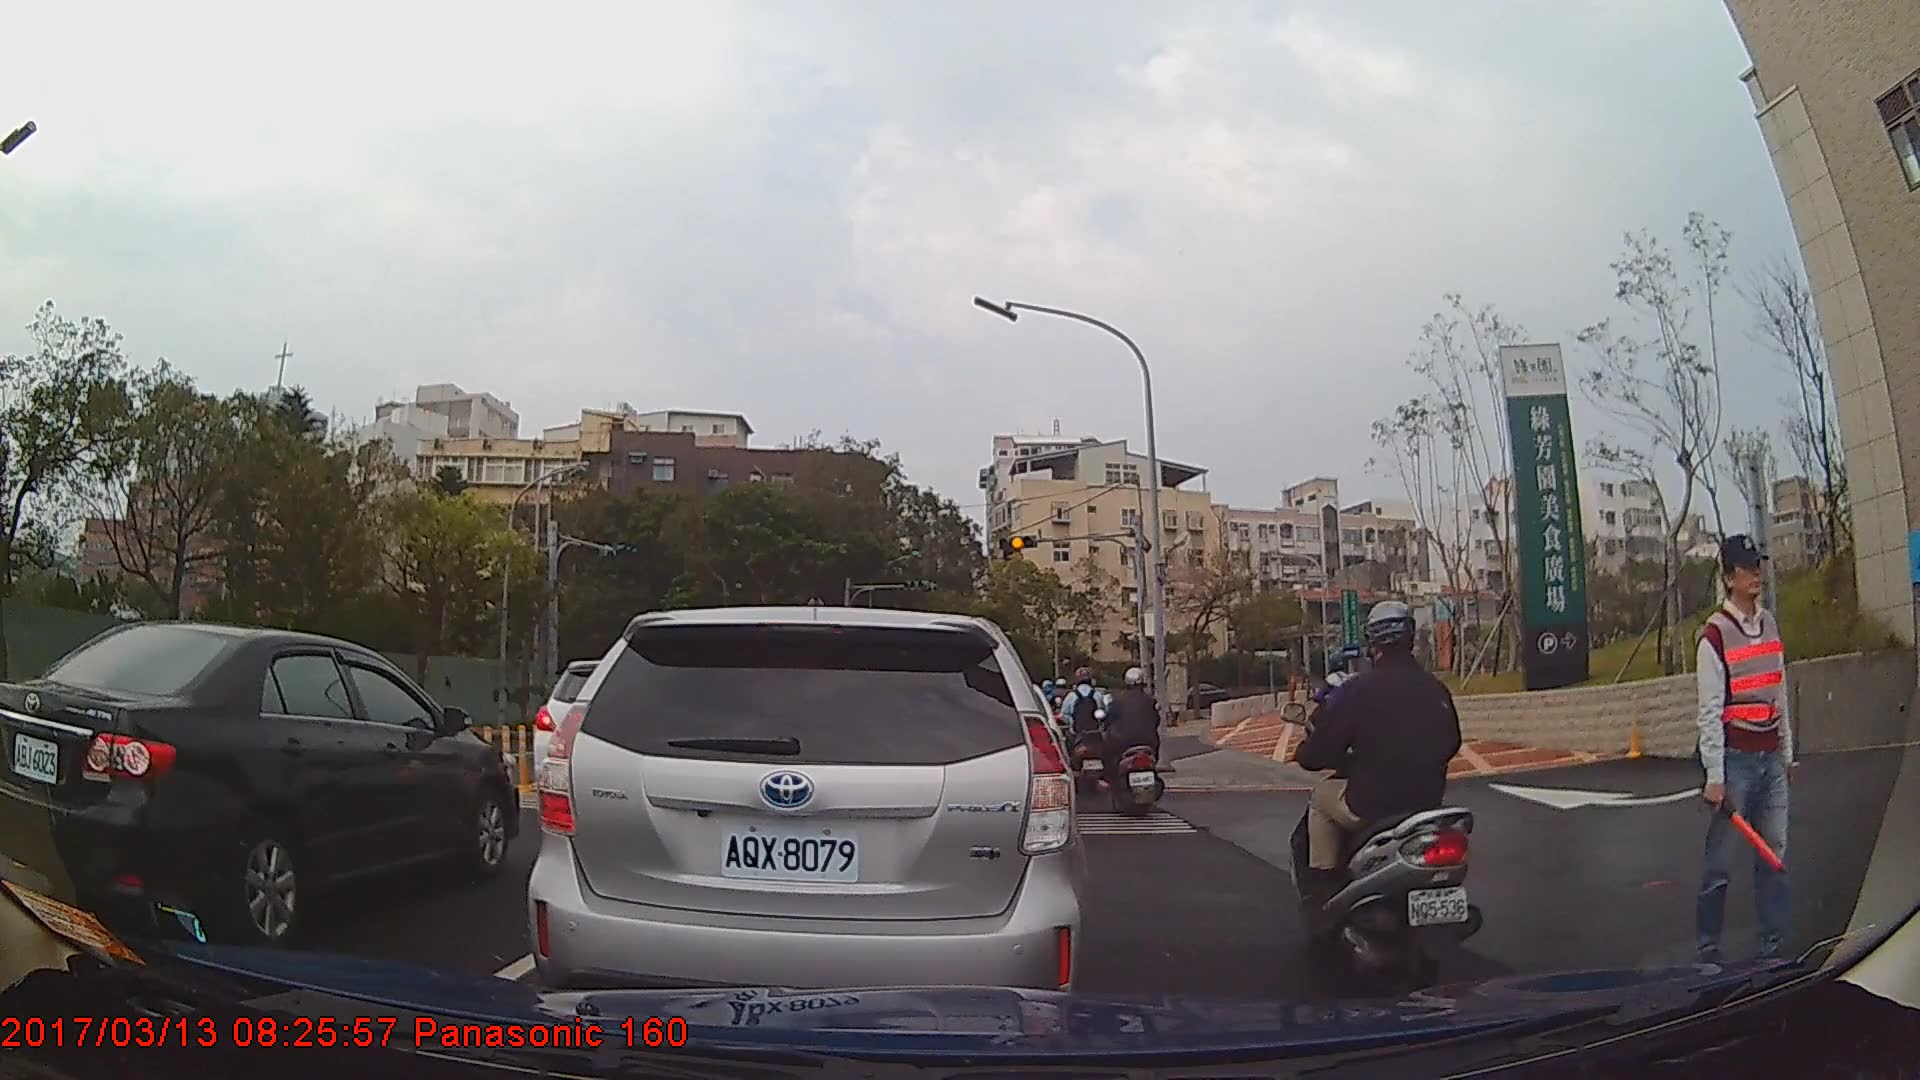pedestrian: (1700, 533, 1817, 978)
rider: (1285, 601, 1489, 991), (1101, 663, 1168, 826), (1059, 665, 1117, 800)
vehicle: (528, 604, 1080, 1028), (0, 618, 518, 947), (1159, 680, 1227, 713)
